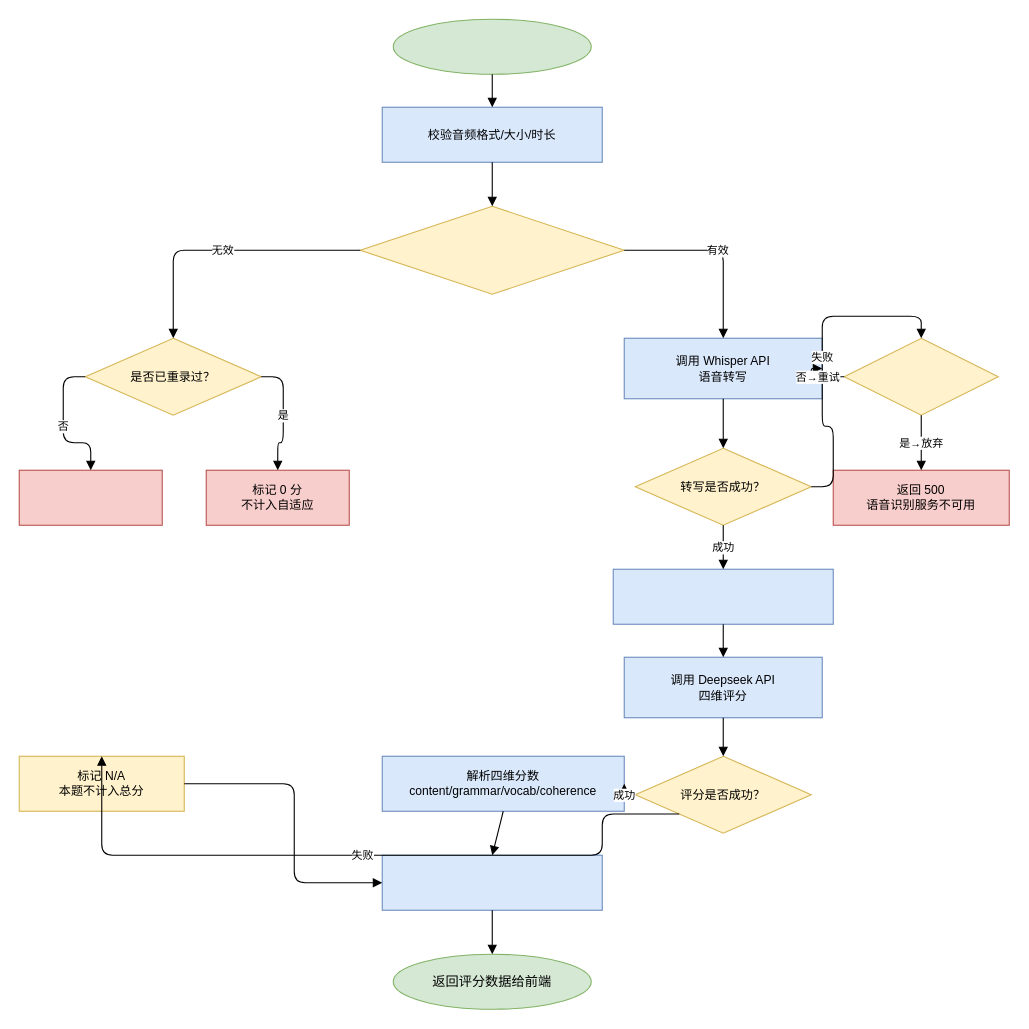
Image size: 1029x1029. Some labels were removed from this diagram. Each missing label, with the centre of its shape:
"前端上传口语录音" goes at (491,46).
"存储评分结果到 assessment_session" goes at (491,882).
"已重试 1 次？" goes at (920,376).
"构造 Deepseek 评分 Prompt （话题 + 转写文本）" goes at (722,596).
"返回 422 提示重录" goes at (90,497).
"音频有效性检查 （静音/时长<5s/文件过大）" goes at (491,249).
